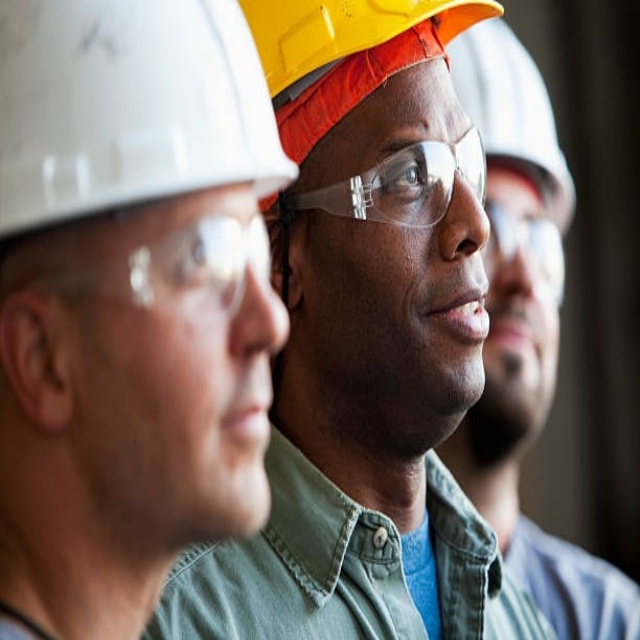Gafas: (25, 207, 278, 324), (281, 125, 489, 234), (483, 203, 567, 306)
Sin_mascara: (190, 309, 293, 546), (404, 271, 495, 389), (494, 306, 544, 413)
